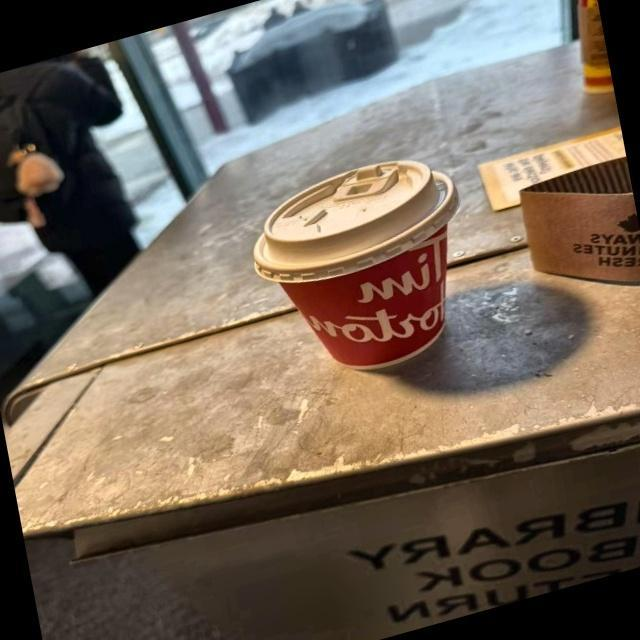timmies: (238, 136, 492, 398)
